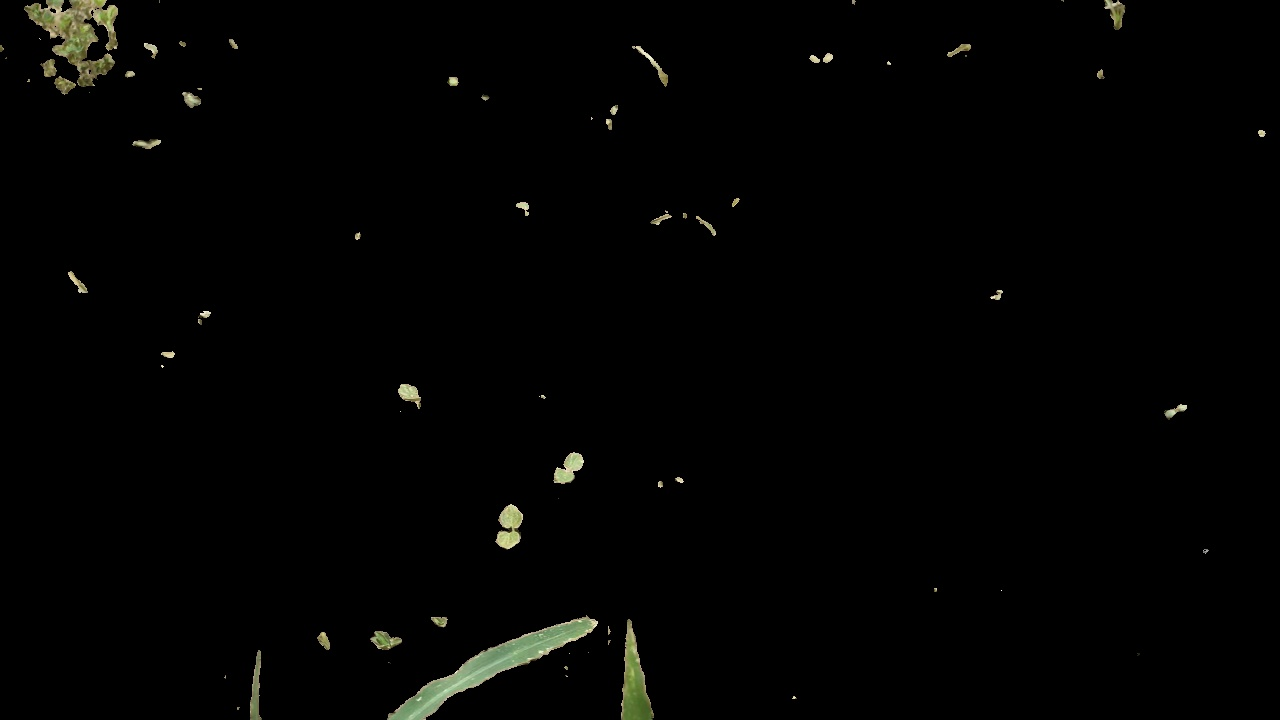crop: (222, 574, 603, 720), (615, 612, 673, 720)
weed: (9, 1, 129, 101), (491, 492, 532, 559), (118, 127, 175, 159), (551, 448, 589, 484), (392, 379, 429, 412), (368, 624, 405, 654), (805, 45, 841, 72), (1168, 391, 1193, 427)
